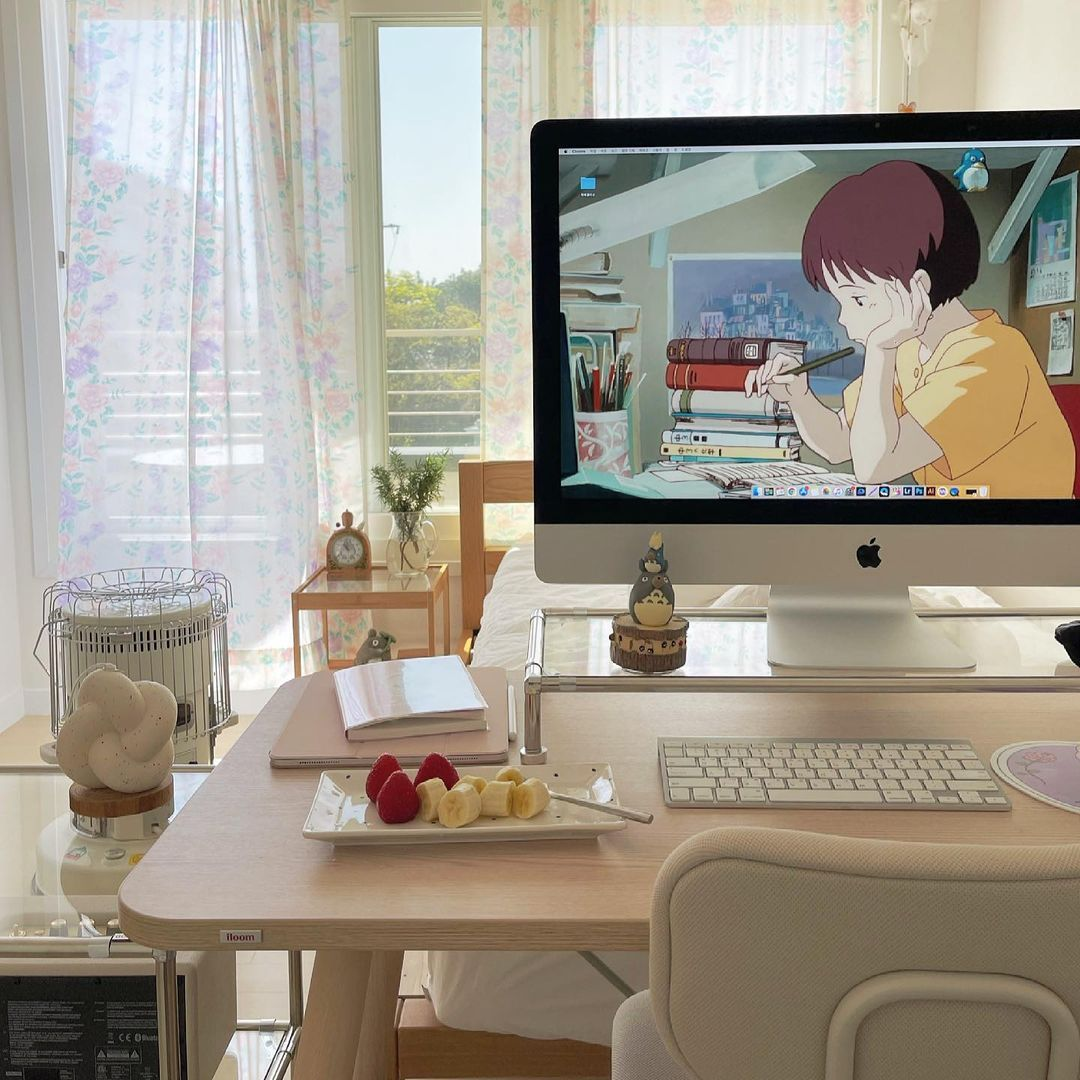not a gesture sign: (528, 121, 1080, 570)
